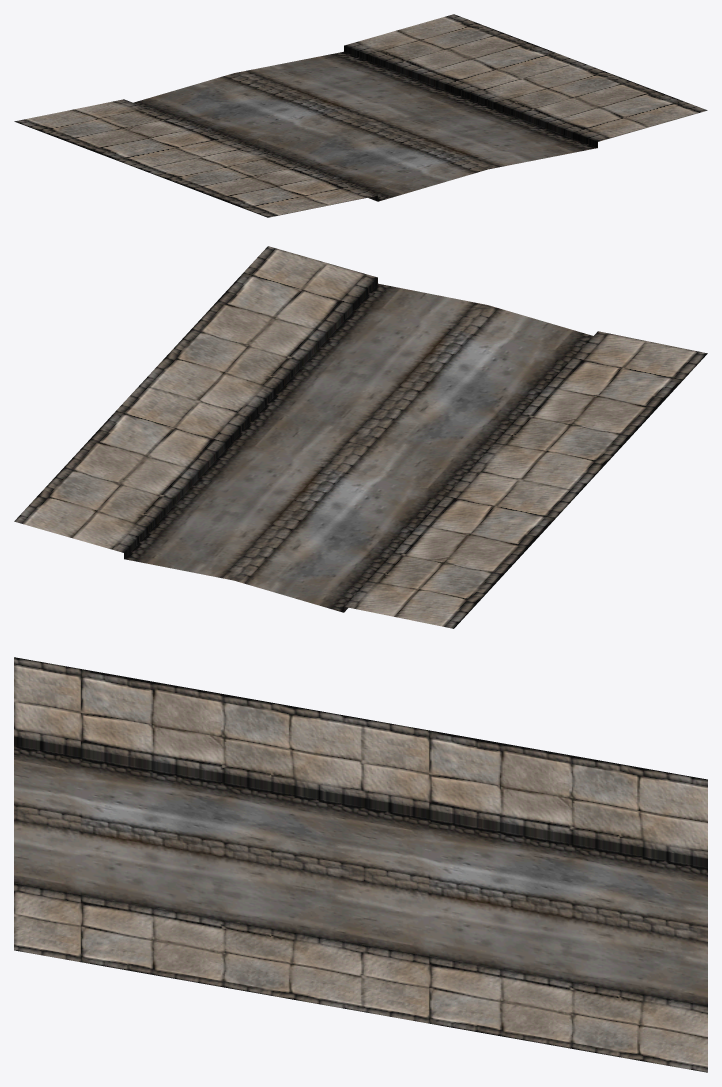
File: street_Straße_Gerade2SchrägFlach_20.glb
3 renders of one model, top to bottom at view 1: azimuth 30°, elevation 25°; view 2: azimuth 150°, elevation 25°; view 3: azimuth 270°, elevation 25°, orthographic. The views are drawn at different scales.
Parts seen in each view (by area): view 1: pPlaneShape171; view 2: pPlaneShape171; view 3: pPlaneShape171.
Boxes of the visible parts, <box> form: pPlaneShape171: <box>14,14,707,217</box>; pPlaneShape171: <box>14,246,707,628</box>; pPlaneShape171: <box>14,657,707,1072</box>.
Bounding box in the file's own units: 2 × 0.4358 × 2.
Materials: 1 (1 with a texture image).
